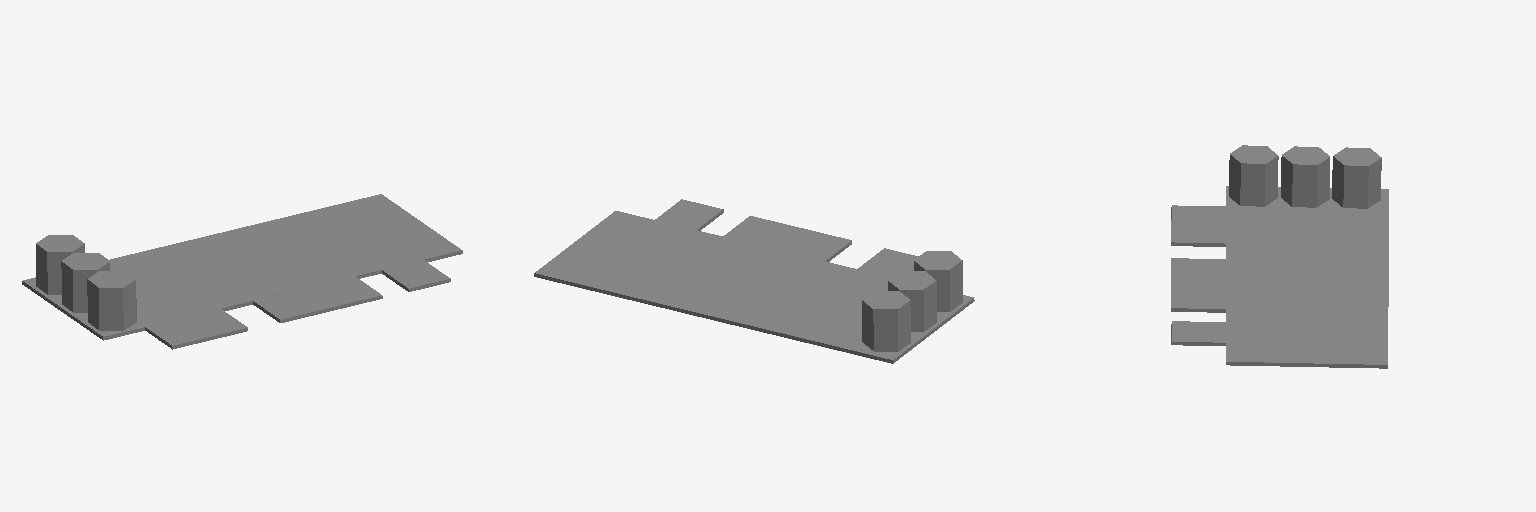
File: mmodule_red.obj
The picture shows the model from 3 angles: view 1: azimuth 30°, elevation 25°; view 2: azimuth 150°, elevation 25°; view 3: azimuth 270°, elevation 25°; orthographic projection.
Parts seen in each view (by area): view 1: Box03; view 2: Box03; view 3: Box03.
Part boxes in pixels (x1,y1,x2,y2): Box03: (22, 194, 462, 349); Box03: (534, 199, 974, 363); Box03: (1171, 145, 1388, 368).
Bounding box in the file's own units: 72.53 × 9.68 × 38.08.